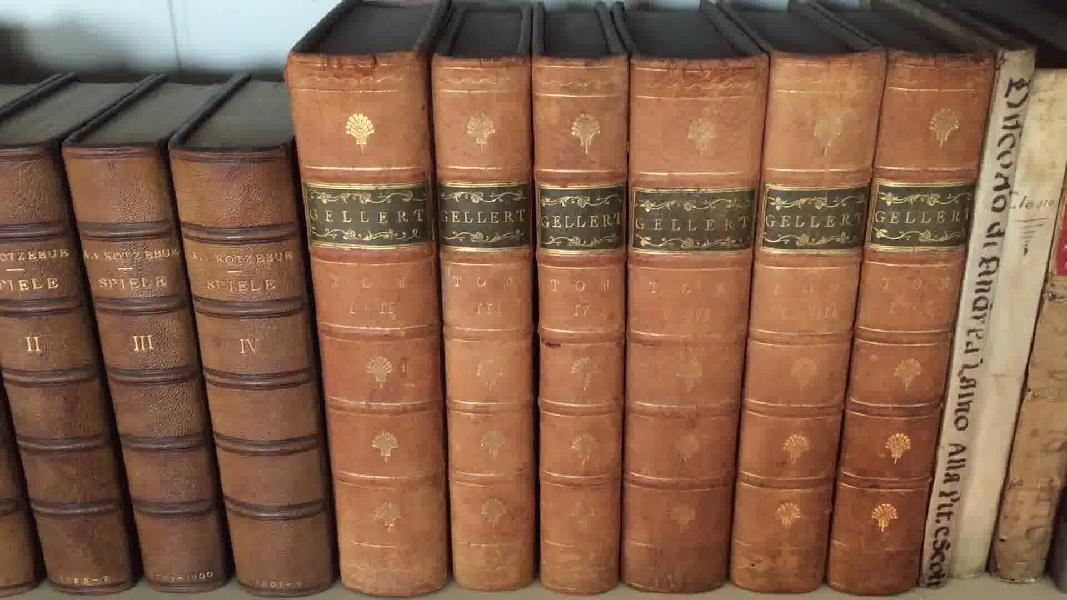Aa6-18_23: (281, 48, 957, 600)
Aa6-24: (897, 19, 1044, 600)
Aa6-25: (947, 20, 1067, 566)
